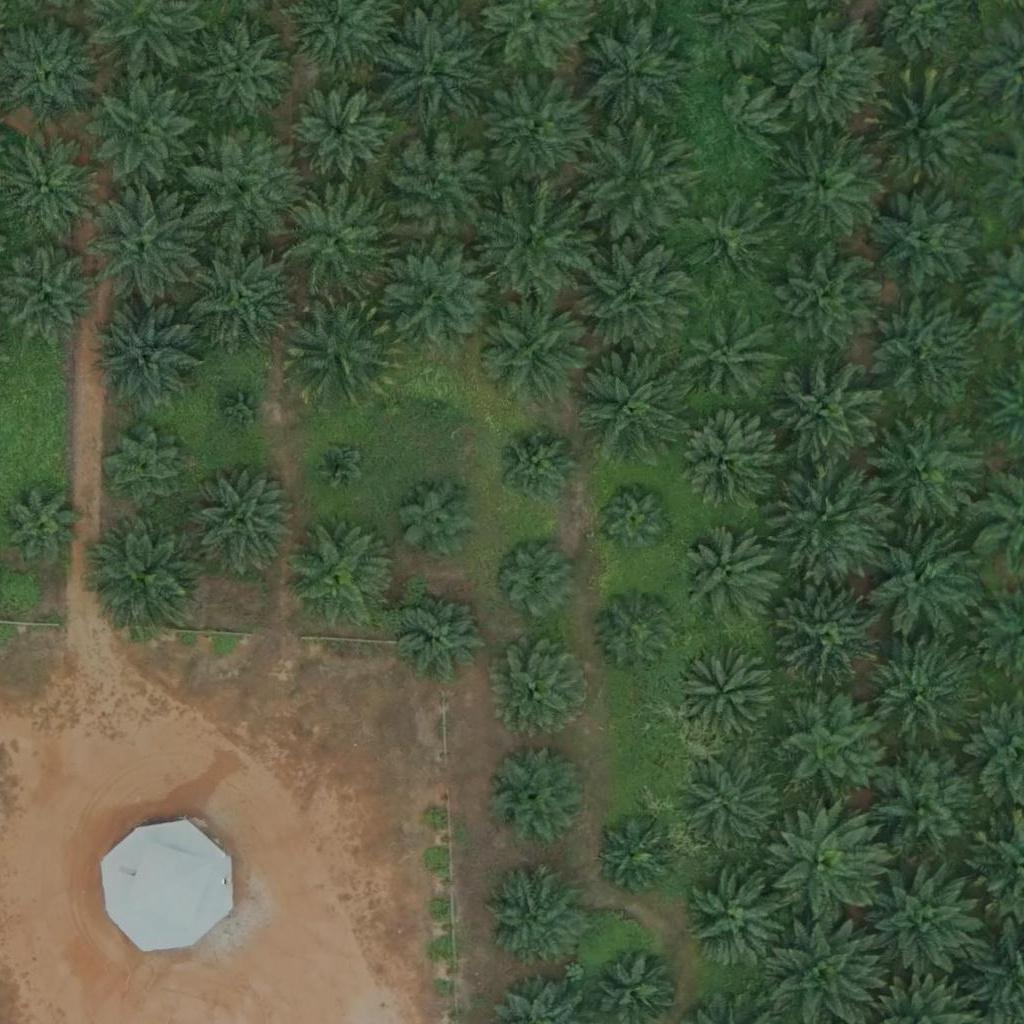Kelapa_Sawit: (574, 342, 687, 456), (477, 73, 590, 187), (474, 183, 587, 297), (377, 12, 490, 126), (869, 182, 982, 295), (865, 292, 978, 405), (774, 16, 887, 129), (765, 129, 878, 242), (771, 246, 884, 359), (479, 293, 592, 406), (381, 133, 494, 246), (89, 77, 202, 190), (89, 190, 202, 303), (92, 305, 205, 418), (92, 518, 205, 631), (773, 464, 886, 577), (774, 581, 887, 694), (870, 412, 983, 525), (867, 526, 980, 639), (861, 637, 974, 750), (869, 752, 982, 865), (771, 357, 883, 471), (578, 123, 690, 237), (580, 240, 692, 354), (284, 518, 396, 632), (283, 294, 395, 407), (866, 77, 978, 190), (576, 17, 688, 130), (386, 240, 498, 353), (281, 184, 393, 297), (181, 130, 293, 243), (185, 237, 297, 350), (185, 468, 297, 581), (769, 690, 881, 803), (768, 811, 880, 924), (871, 863, 983, 976), (290, 81, 390, 182), (192, 22, 292, 123), (482, 865, 582, 966), (674, 414, 774, 515), (680, 526, 780, 627), (675, 644, 775, 745), (678, 190, 778, 290), (682, 309, 782, 409), (492, 639, 592, 739), (487, 746, 587, 846), (685, 758, 785, 858), (687, 871, 787, 971), (695, 80, 783, 168), (401, 591, 489, 679), (104, 426, 191, 514), (395, 476, 482, 564), (494, 426, 581, 514), (491, 535, 578, 623), (593, 590, 680, 678), (598, 818, 673, 894), (3, 487, 78, 562), (596, 482, 671, 557), (219, 384, 269, 435), (313, 440, 363, 491), (410, 377, 460, 427)
